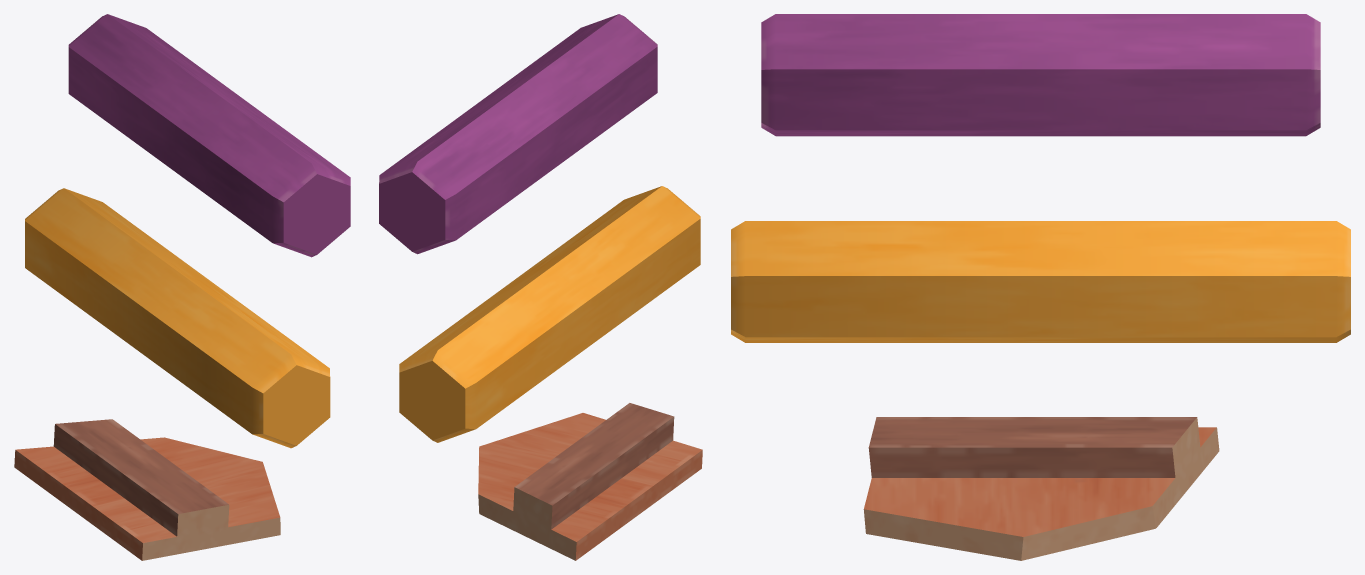
Rendered from bolts_s06.fbx.
The picture shows the model from 3 angles, left to right: view 1: azimuth 30°, elevation 25°; view 2: azimuth 150°, elevation 25°; view 3: azimuth 270°, elevation 25°; orthographic projection. The views are drawn at different scales.
Parts seen in each view (by area): view 1: bolts_s06; view 2: bolts_s06; view 3: bolts_s06.
Part boxes in pixels (<box>): bolts_s06: <box>14,14,350,560</box>; bolts_s06: <box>379,14,702,560</box>; bolts_s06: <box>731,14,1350,560</box>.
Bounding box in the file's own units: 2.16 × 4.74 × 5.15.
